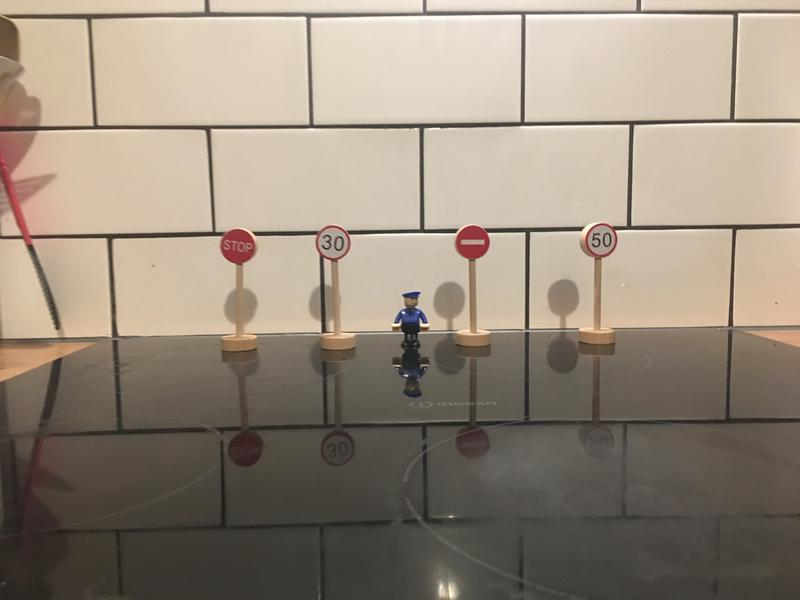Traffic_Sign_30: (317, 224, 351, 261)
Traffic_Sign_50: (585, 224, 616, 258)
Traffic_Sign_No_Entry: (456, 224, 490, 261)
Traffic_Sign_Stop: (220, 229, 255, 266)
person: (395, 289, 430, 351)
